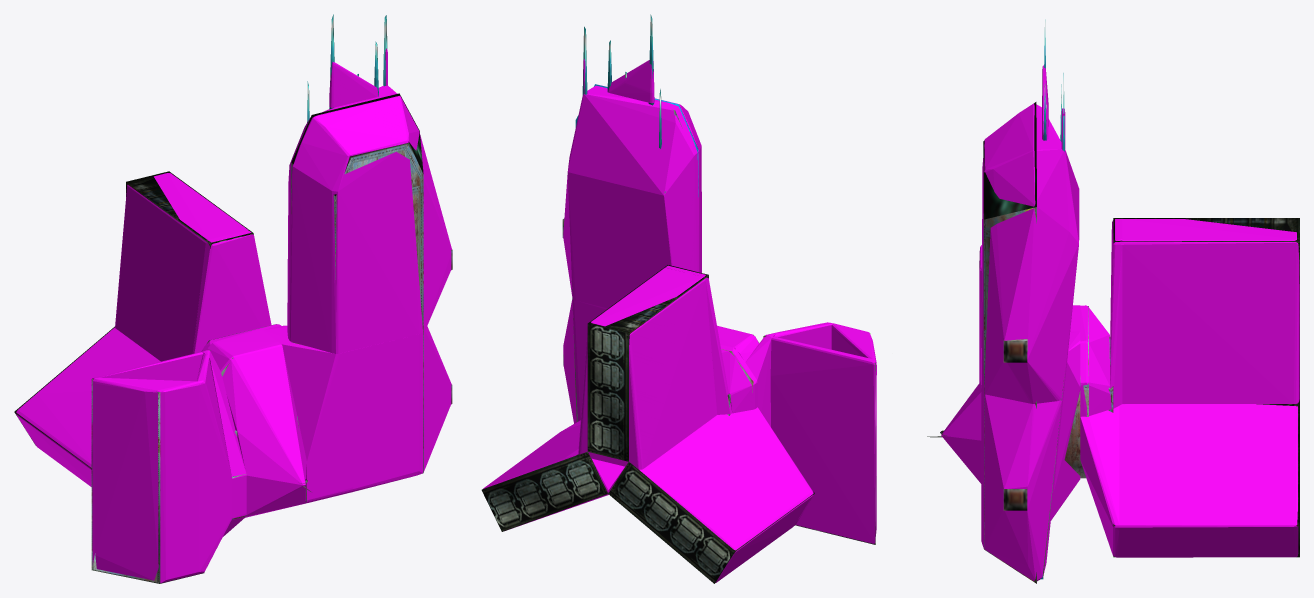
3 views of the same model, side by side, from view 1: azimuth 30°, elevation 25°; view 2: azimuth 150°, elevation 25°; view 3: azimuth 270°, elevation 25° (orthographic). The views are drawn at different scales.
Visible parts, largest first — view 1: COL_CoACD014, COL_CoACD000, COL_CoACD008, COL_CoACD015, COL_CoACD006, COL_CoACD010, COL_CoACD004, ss21a, COL_CoACD007, COL_CoACD002, COL_CoACD001, COL_CoACD005 (+1 smaller); view 2: COL_CoACD014, ss21a, COL_CoACD001, COL_CoACD008, COL_CoACD004, COL_CoACD011, COL_CoACD015, COL_CoACD003, COL_CoACD009, COL_CoACD007, COL_CoACD005, COL_CoACD000 (+3 smaller); view 3: COL_CoACD008, COL_CoACD011, COL_CoACD014, COL_CoACD015, ss21a, COL_CoACD012, COL_CoACD009, COL_CoACD010, COL_CoACD006, COL_CoACD007.
Part boxes in pixels (left/top/right/bottom): COL_CoACD014: left=287, top=85, right=451, bottom=353; COL_CoACD000: left=95, top=377, right=199, bottom=583; COL_CoACD008: left=115, top=173, right=248, bottom=361; COL_CoACD015: left=352, top=326, right=451, bottom=492; COL_CoACD006: left=207, top=330, right=306, bottom=517; COL_CoACD010: left=262, top=325, right=353, bottom=503; COL_CoACD004: left=16, top=327, right=160, bottom=486; ss21a: left=14, top=14, right=452, bottom=583; COL_CoACD007: left=192, top=230, right=271, bottom=353; COL_CoACD002: left=197, top=354, right=232, bottom=573; COL_CoACD001: left=92, top=352, right=203, bottom=564; COL_CoACD005: left=202, top=350, right=246, bottom=536; COL_CoACD014: left=563, top=84, right=701, bottom=308; ss21a: left=481, top=14, right=875, bottom=583; COL_CoACD001: left=770, top=336, right=876, bottom=543; COL_CoACD008: left=578, top=267, right=717, bottom=469; COL_CoACD004: left=608, top=415, right=811, bottom=582; COL_CoACD011: left=483, top=425, right=624, bottom=528; COL_CoACD015: left=563, top=299, right=607, bottom=423; COL_CoACD003: left=719, top=407, right=813, bottom=525; COL_CoACD009: left=720, top=344, right=757, bottom=413; COL_CoACD007: left=665, top=265, right=732, bottom=414; COL_CoACD005: left=745, top=332, right=777, bottom=426; COL_CoACD000: left=831, top=323, right=876, bottom=536; COL_CoACD008: left=1122, top=219, right=1299, bottom=403; COL_CoACD011: left=1119, top=404, right=1298, bottom=557; COL_CoACD014: left=981, top=103, right=1079, bottom=403; COL_CoACD015: left=981, top=355, right=1063, bottom=581; ss21a: left=927, top=19, right=1299, bottom=583; COL_CoACD012: left=1080, top=406, right=1119, bottom=557; COL_CoACD009: left=1080, top=305, right=1109, bottom=416; COL_CoACD010: left=981, top=331, right=1080, bottom=520; COL_CoACD006: left=941, top=305, right=1080, bottom=483; COL_CoACD007: left=1110, top=219, right=1122, bottom=409.
Bounding box in the file's own units: 90.68 × 130 × 78.51.
Materials: 2 (1 with a texture image).
